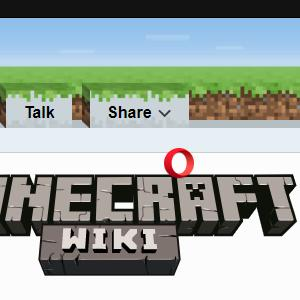opera: (164, 147, 194, 178)
